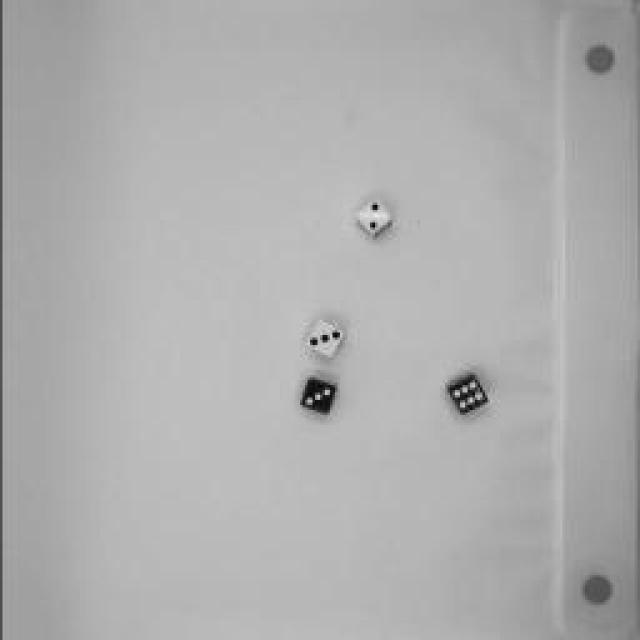dice_2: (352, 194, 396, 241)
dice_3: (300, 314, 350, 364), (298, 372, 340, 418)
dice_6: (441, 369, 494, 419)
